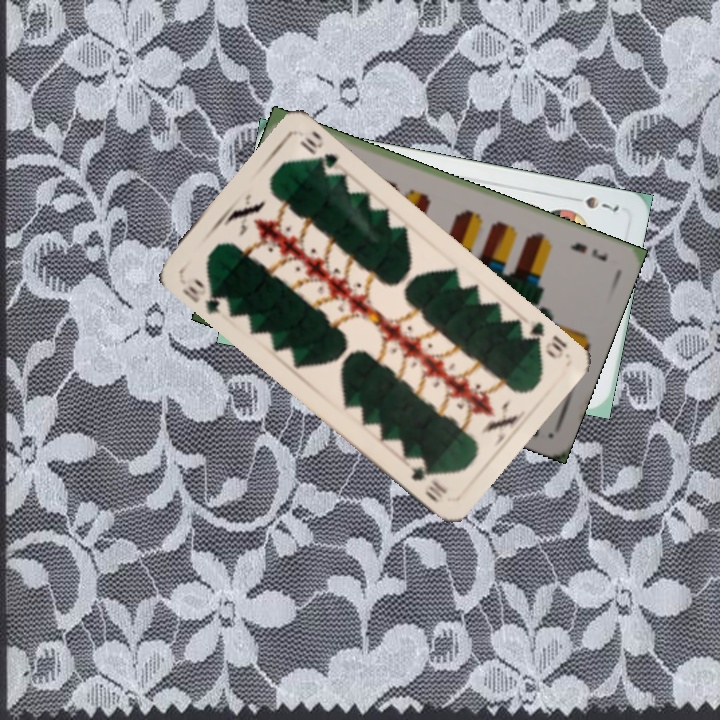E7: (566, 238, 610, 264)
G10: (516, 317, 570, 362), (179, 274, 232, 317)
S7: (581, 192, 622, 215)
